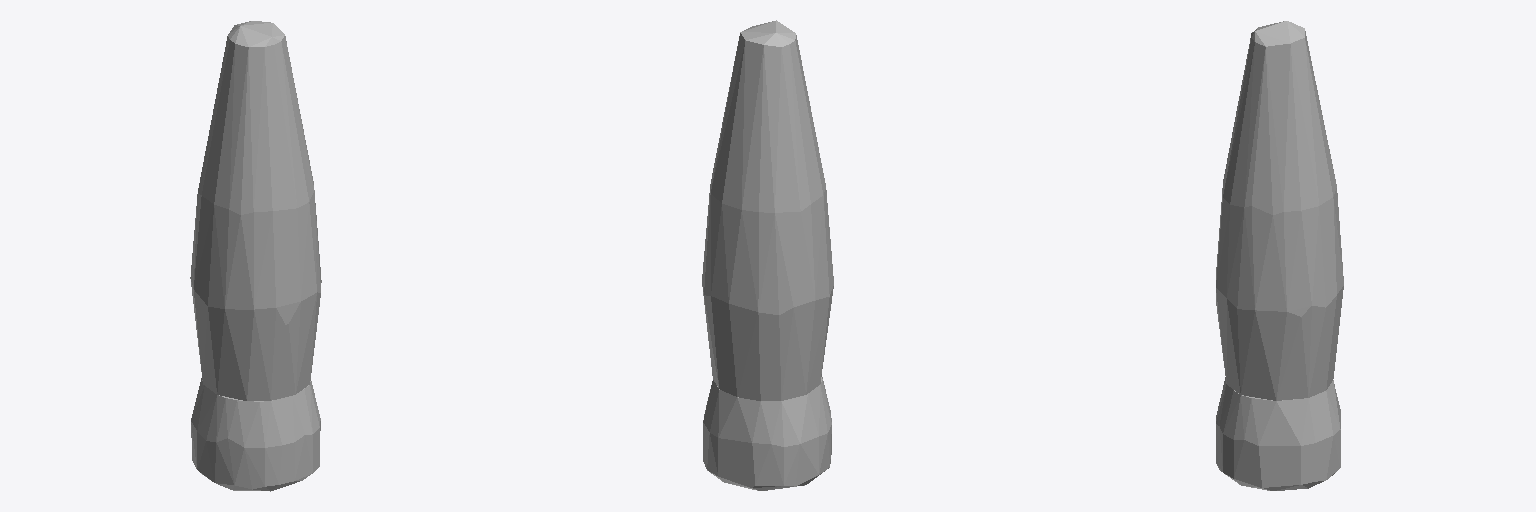
URDF robot description (root):
<robot name="root">
  <link name="link_6b810dbc89542fd8a531220b48579115_convex_piece_0">
    <inertial>
      <origin rpy="0 0 0" xyz="0 0 0"/>
      <mass value="4.49E-05"/>
      <inertia ixx="2.21E-07" ixy="-2.06E-12" ixz="1.21E-10" iyy="2.21E-07" iyz="2.17E-10" izz="1.13E-08"/>
    </inertial>
    <visual>
      <origin rpy="0 0 0" xyz="0 0 0"/>
      <geometry>
        <mesh filename="6b810dbc89542fd8a531220b48579115_convex_piece_0.obj" scale="1.0000E+00"/>
      </geometry>
      <material name="">
        <color rgba="7.50E-01 7.50E-01 7.50E-01 1"/>
      </material>
    </visual>
    <collision>
      <origin rpy="0 0 0" xyz="0 0 0"/>
      <geometry>
        <mesh filename="6b810dbc89542fd8a531220b48579115_convex_piece_0.obj" scale="1.0000E+00"/>
      </geometry>
    </collision>
  </link>
  <link name="link_6b810dbc89542fd8a531220b48579115_convex_piece_1">
    <inertial>
      <origin rpy="0 0 0" xyz="0 0 0"/>
      <mass value="1.32E-04"/>
      <inertia ixx="1.21E-07" ixy="6.64E-11" ixz="-8.46E-11" iyy="1.21E-07" iyz="-1.77E-10" izz="2.83E-08"/>
    </inertial>
    <visual>
      <origin rpy="0 0 0" xyz="0 0 0"/>
      <geometry>
        <mesh filename="6b810dbc89542fd8a531220b48579115_convex_piece_1.obj" scale="1.0000E+00"/>
      </geometry>
      <material name="">
        <color rgba="7.50E-01 7.50E-01 7.50E-01 1"/>
      </material>
    </visual>
    <collision>
      <origin rpy="0 0 0" xyz="0 0 0"/>
      <geometry>
        <mesh filename="6b810dbc89542fd8a531220b48579115_convex_piece_1.obj" scale="1.0000E+00"/>
      </geometry>
    </collision>
  </link>
  <joint name="link_6b810dbc89542fd8a531220b48579115_convex_piece_1_joint" type="fixed">
    <origin rpy="0 0 0" xyz="0 0 0"/>
    <parent link="link_6b810dbc89542fd8a531220b48579115_convex_piece_0"/>
    <child link="link_6b810dbc89542fd8a531220b48579115_convex_piece_1"/>
  </joint>
</robot>

--- What the picture shows (computed from the rendered views, not written in the file) ---
Views: 3 orthographic renders of the robot side by side, from view 1: azimuth 30°, elevation 25°; view 2: azimuth 150°, elevation 25°; view 3: azimuth 270°, elevation 25°.
Model root with 2 links and 1 joints (1 fixed), rooted at link_6b810dbc89542fd8a531220b48579115_convex_piece_0, posed all joints at 0.
Links seen in each view (by area): view 1: link_6b810dbc89542fd8a531220b48579115_convex_piece_1, link_6b810dbc89542fd8a531220b48579115_convex_piece_0; view 2: link_6b810dbc89542fd8a531220b48579115_convex_piece_1, link_6b810dbc89542fd8a531220b48579115_convex_piece_0; view 3: link_6b810dbc89542fd8a531220b48579115_convex_piece_1, link_6b810dbc89542fd8a531220b48579115_convex_piece_0.
Link boxes in pixels (x1,y1,x2,y2): link_6b810dbc89542fd8a531220b48579115_convex_piece_1: (190,21,321,400); link_6b810dbc89542fd8a531220b48579115_convex_piece_0: (191,378,320,491); link_6b810dbc89542fd8a531220b48579115_convex_piece_1: (702,20,833,400); link_6b810dbc89542fd8a531220b48579115_convex_piece_0: (703,377,831,490); link_6b810dbc89542fd8a531220b48579115_convex_piece_1: (1216,21,1343,400); link_6b810dbc89542fd8a531220b48579115_convex_piece_0: (1216,377,1340,490).
Bounding box of the posed robot: 0.0467 × 0.0467 × 0.1779 m (x, y, z).
2 mesh visuals loaded from 2 distinct referenced files (2 OBJ).